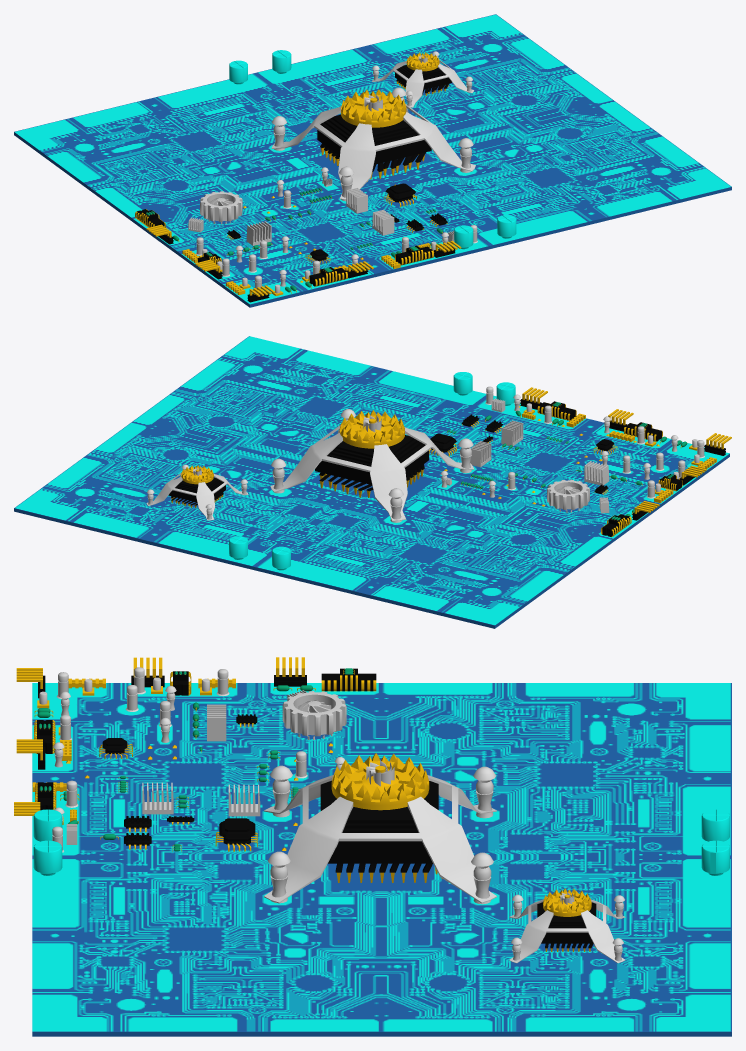
The model's file is Circuit_Board.fbx.
The picture shows the model from 3 angles, top to bottom: view 1: azimuth 30°, elevation 25°; view 2: azimuth 150°, elevation 25°; view 3: azimuth 270°, elevation 25°; orthographic projection. The views are drawn at different scales.
Parts seen in each view (by area): view 1: Board, board_part_1, main_part, sub_part, board_part_2; view 2: Board, board_part_1, main_part, sub_part, board_part_2; view 3: Board, main_part, board_part_1, sub_part, board_part_2.
Boxes of the visible parts, left/top/right/bottom form: Board: left=14, top=14, right=731, bottom=307; board_part_1: left=135, top=167, right=477, bottom=302; main_part: left=271, top=87, right=475, bottom=201; sub_part: left=372, top=51, right=474, bottom=107; board_part_2: left=229, top=50, right=516, bottom=249; Board: left=14, top=336, right=729, bottom=628; board_part_1: left=429, top=386, right=731, bottom=536; main_part: left=270, top=409, right=474, bottom=522; sub_part: left=146, top=464, right=248, bottom=520; board_part_2: left=229, top=372, right=515, bottom=570; Board: left=32, top=683, right=731, bottom=1036; main_part: left=264, top=753, right=496, bottom=904; board_part_1: left=14, top=657, right=376, bottom=852; sub_part: left=509, top=888, right=625, bottom=963; board_part_2: left=33, top=809, right=729, bottom=875.
Size of the model in its own units: 1135 by 142 by 964.
